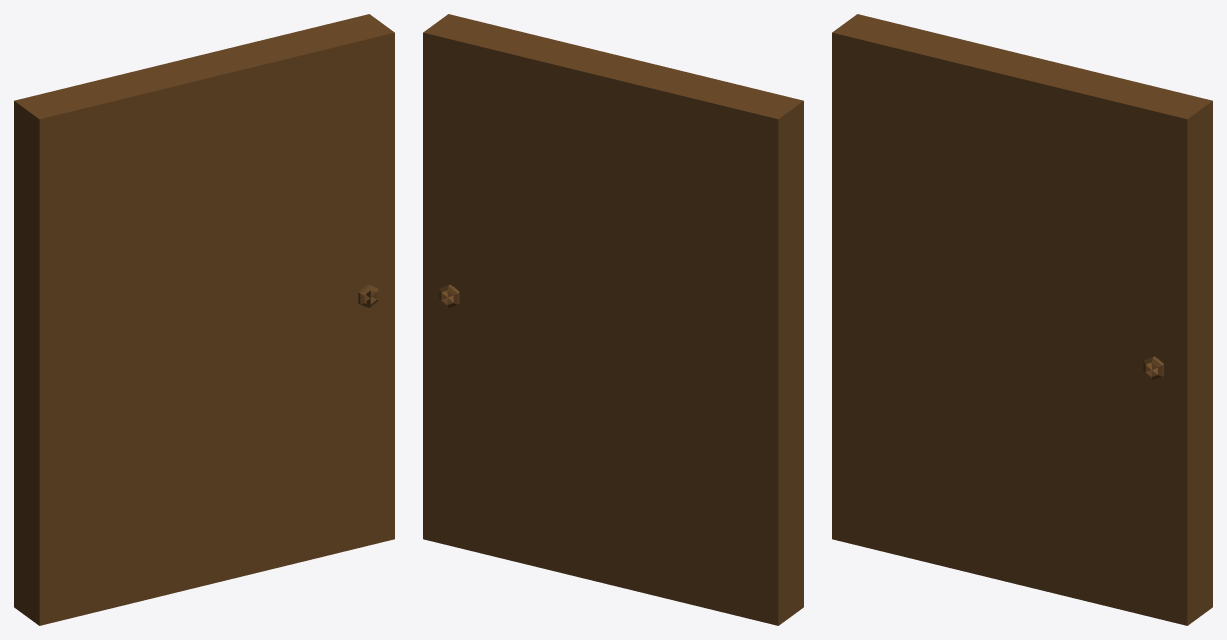
The model's file is porta_cadaver.fbx.
The picture shows the model from 3 angles, left to right: view 1: azimuth 30°, elevation 25°; view 2: azimuth 150°, elevation 25°; view 3: azimuth 330°, elevation 25°; orthographic projection.
Visible parts, largest first — view 1: porta; view 2: porta; view 3: porta.
Boxes of the visible parts, left/top/right/bottom form: porta: left=14, top=14, right=394, bottom=625; porta: left=423, top=14, right=803, bottom=625; porta: left=832, top=14, right=1212, bottom=625.
Bounding box in the file's own units: 258 × 352 × 46.22.
